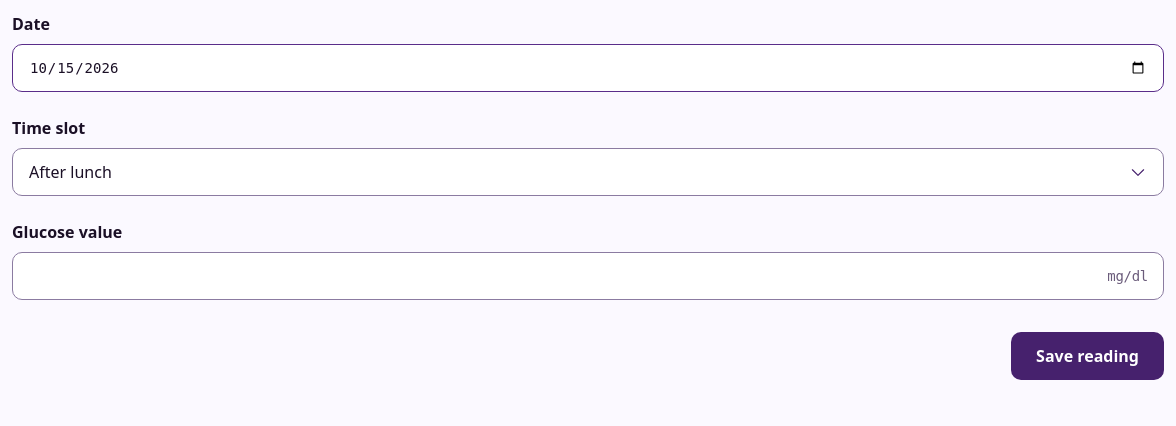
Test: ReadingForm › shows a 409 DUPLICATE_SLOT from the API under the slot field
In the field labelled "Glucose value": (588, 276) left=12, top=252, right=1164, bottom=300, type "142"
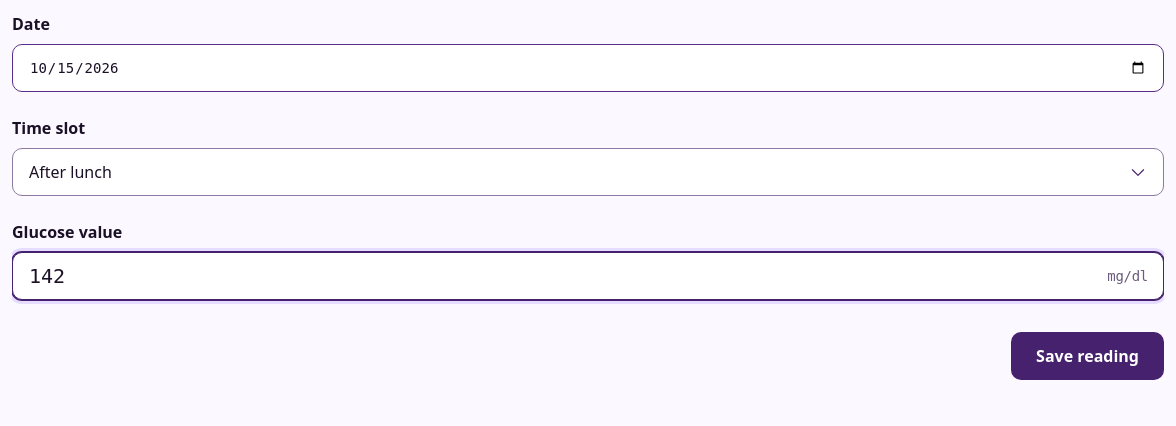
Click the button "Save reading": (1088, 356) left=1011, top=332, right=1164, bottom=380
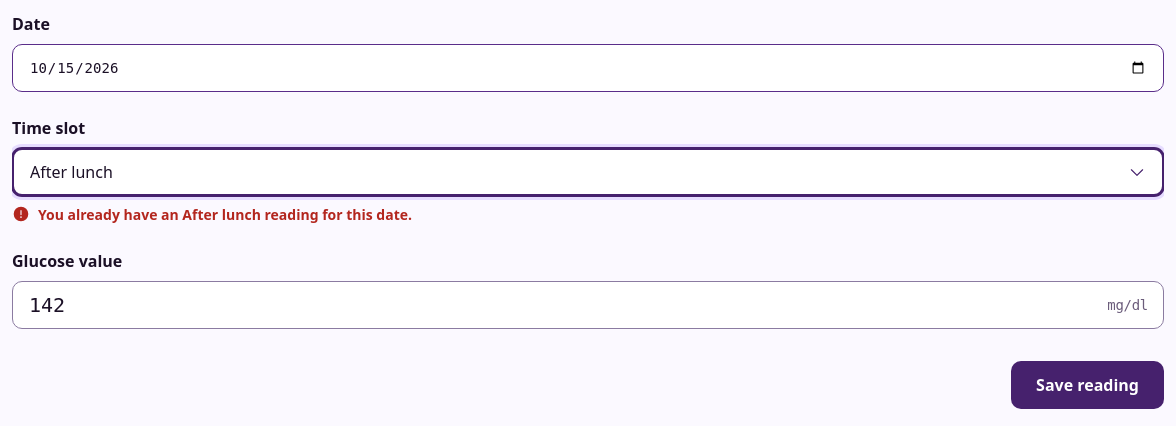
Expected: the text "You already have an After lunch reading for this date." is shown, left=38, top=204, right=412, bottom=225
